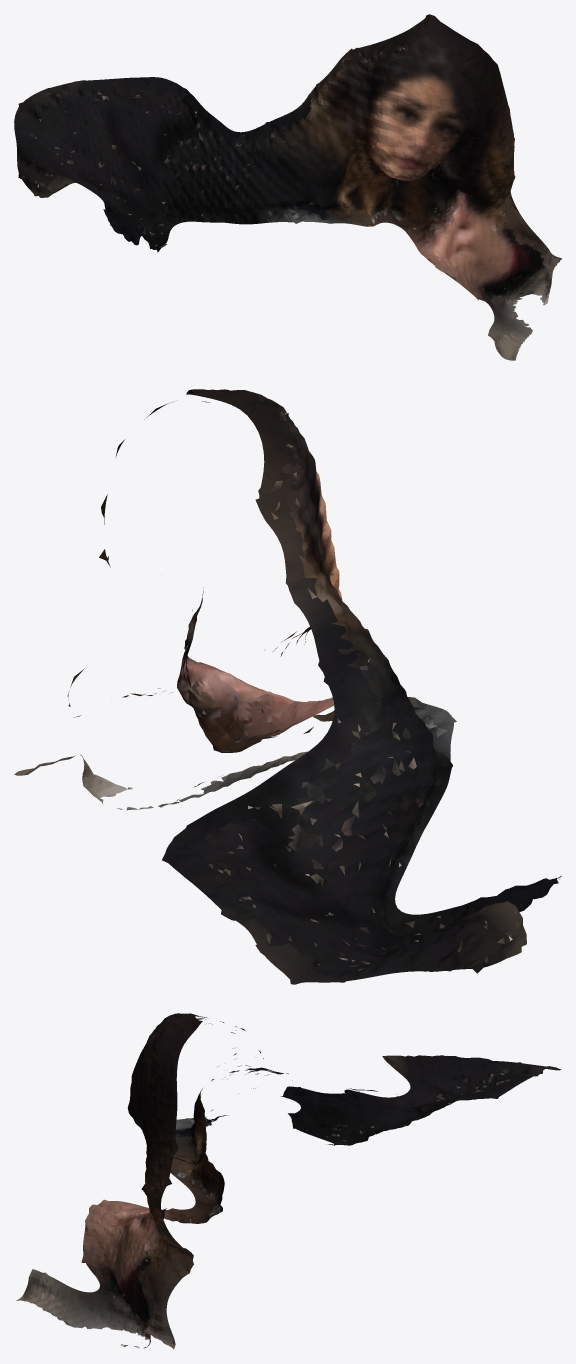
3 views of the same model, one above another, from view 1: azimuth 30°, elevation 25°; view 2: azimuth 150°, elevation 25°; view 3: azimuth 270°, elevation 25° (orthographic). The views are drawn at different scales.
Size of the model in its own units: 0.7138 by 0.4635 by 0.8059.
1 material, 1 textured.
